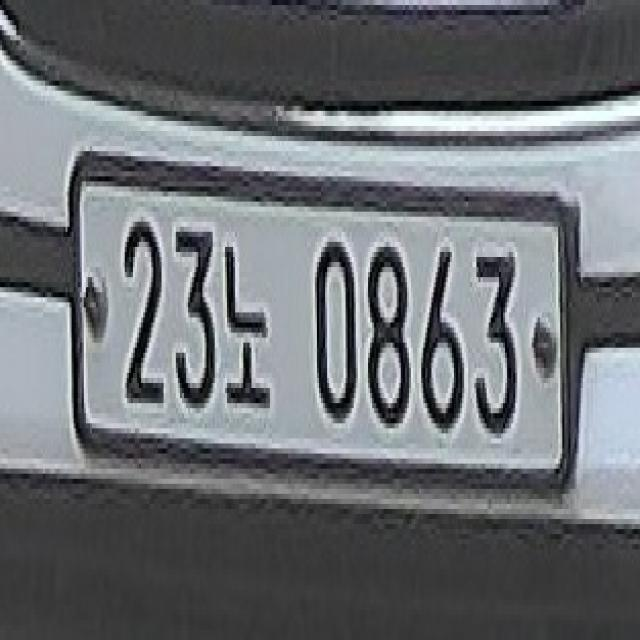0: (313, 226, 365, 431)
2: (115, 205, 173, 416)
3: (470, 235, 531, 447), (166, 211, 224, 413)
6: (415, 235, 472, 438)
8: (363, 224, 417, 440)
license_plate: (76, 174, 566, 473)
no: (221, 215, 284, 420)
